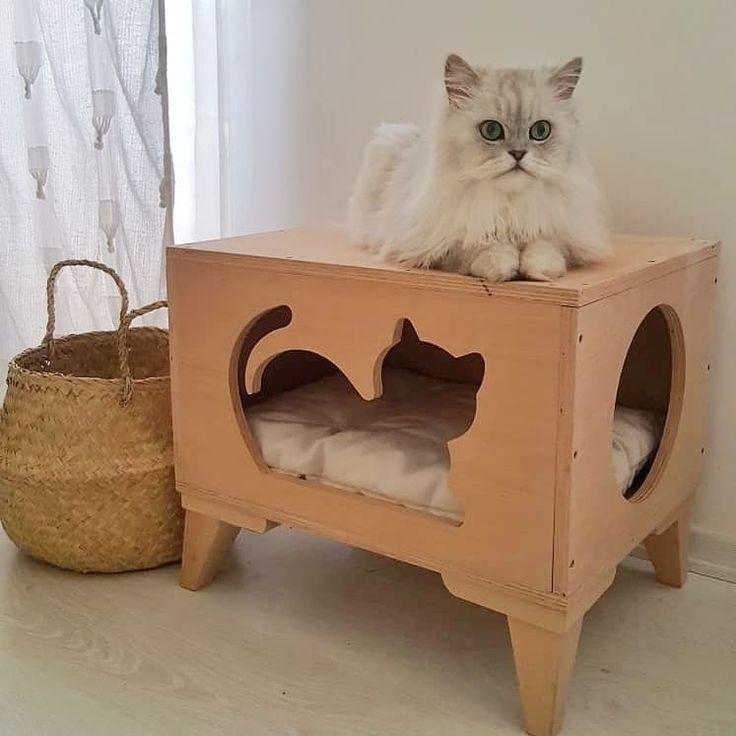kedo: (349, 52, 605, 282)
